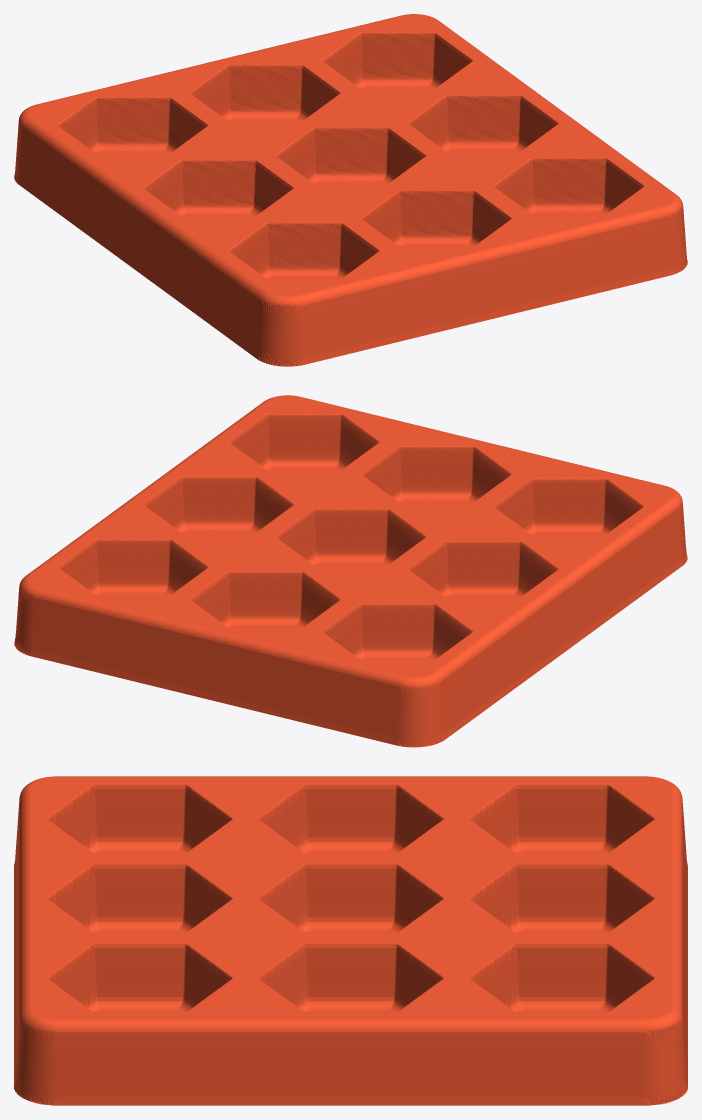
File: mold.glb
3 renders of one model, top to bottom at view 1: azimuth 30°, elevation 25°; view 2: azimuth 150°, elevation 25°; view 3: azimuth 270°, elevation 25°, orthographic. The views are drawn at different scales.
Visible parts, largest first — view 1: geometry_0; view 2: geometry_0; view 3: geometry_0.
Boxes of the visible parts, left/top/right/bottom form: geometry_0: left=14, top=14, right=687, bottom=366; geometry_0: left=14, top=395, right=687, bottom=747; geometry_0: left=14, top=776, right=687, bottom=1105.
Bounding box in the file's own units: 0.126 × 0.0182 × 0.1402.
